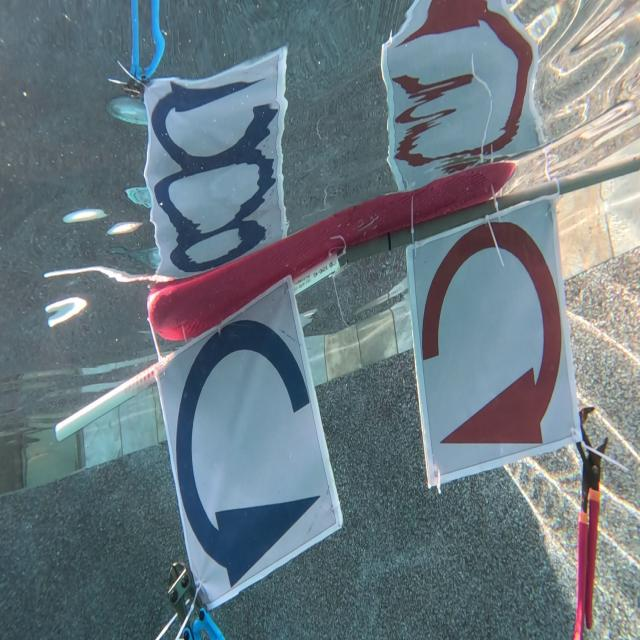blue_side: (170, 316, 315, 590)
red_side: (418, 206, 560, 462)
